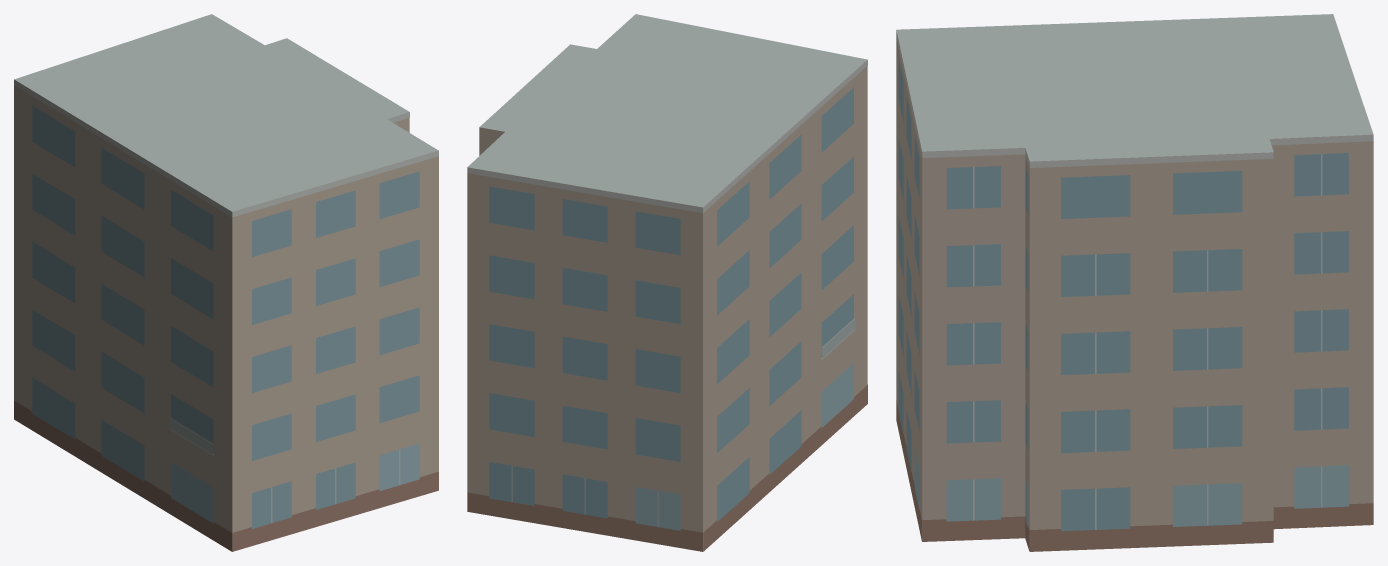
The model's file is survey-upis-32701647.glb.
The picture shows the model from 3 angles, left to right: view 1: azimuth 30°, elevation 25°; view 2: azimuth 150°, elevation 25°; view 3: azimuth 270°, elevation 25°; orthographic projection. The views are drawn at different scales.
Visible parts, largest first — view 1: survey-upis-32701647.tmp; view 2: survey-upis-32701647.tmp; view 3: survey-upis-32701647.tmp.
Part boxes in pixels (x1,y1,x2,y2): survey-upis-32701647.tmp: [14, 14, 438, 551]; survey-upis-32701647.tmp: [467, 14, 867, 551]; survey-upis-32701647.tmp: [896, 14, 1373, 551].
Bounding box in the file's own units: 11.93 × 14.7 × 16.3.
